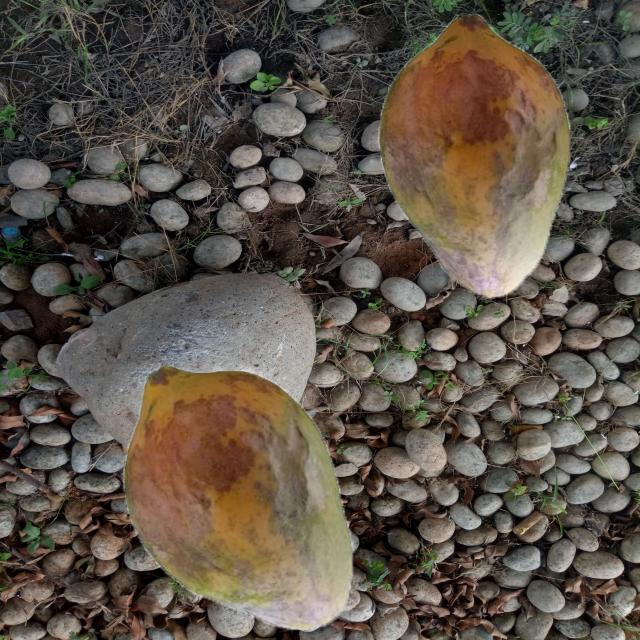Pepaya rippen: (113, 365, 373, 625), (369, 8, 573, 302)
